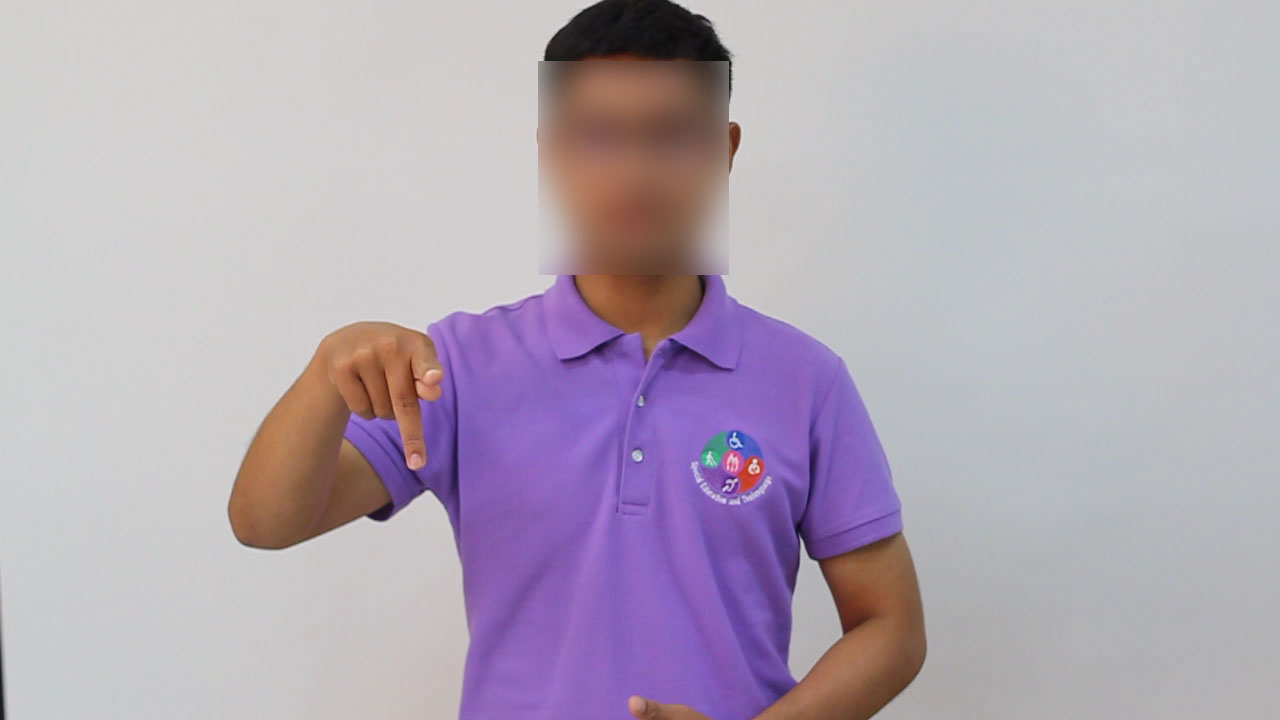por: (308, 292, 456, 486)
